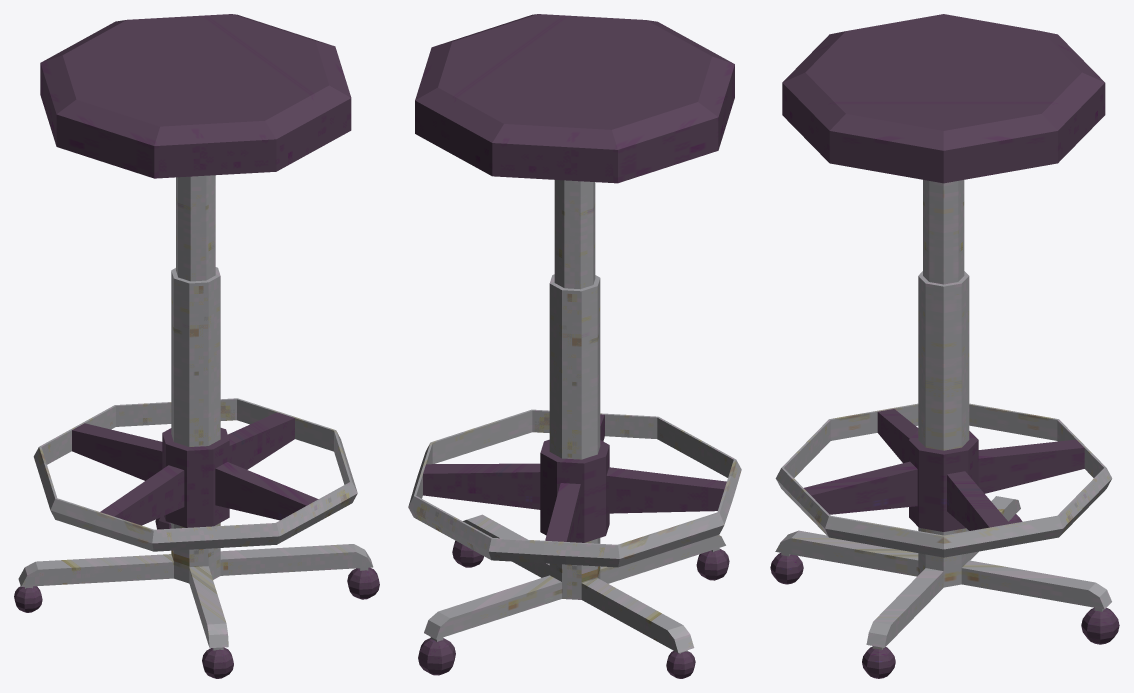
File: ClinicChair.fbx
The picture shows the model from 3 angles, left to right: view 1: azimuth 30°, elevation 25°; view 2: azimuth 150°, elevation 25°; view 3: azimuth 270°, elevation 25°; orthographic projection. The views are drawn at different scales.
Visible parts, largest first — view 1: Clinic_Chair; view 2: Clinic_Chair; view 3: Clinic_Chair.
Part boxes in pixels (x1,y1,x2,y2): Clinic_Chair: (14, 14, 379, 678); Clinic_Chair: (408, 14, 741, 678); Clinic_Chair: (770, 14, 1119, 678).
Size of the model in its own units: 0.5819 by 1.01 by 0.5886.
2 materials, 2 textured.
